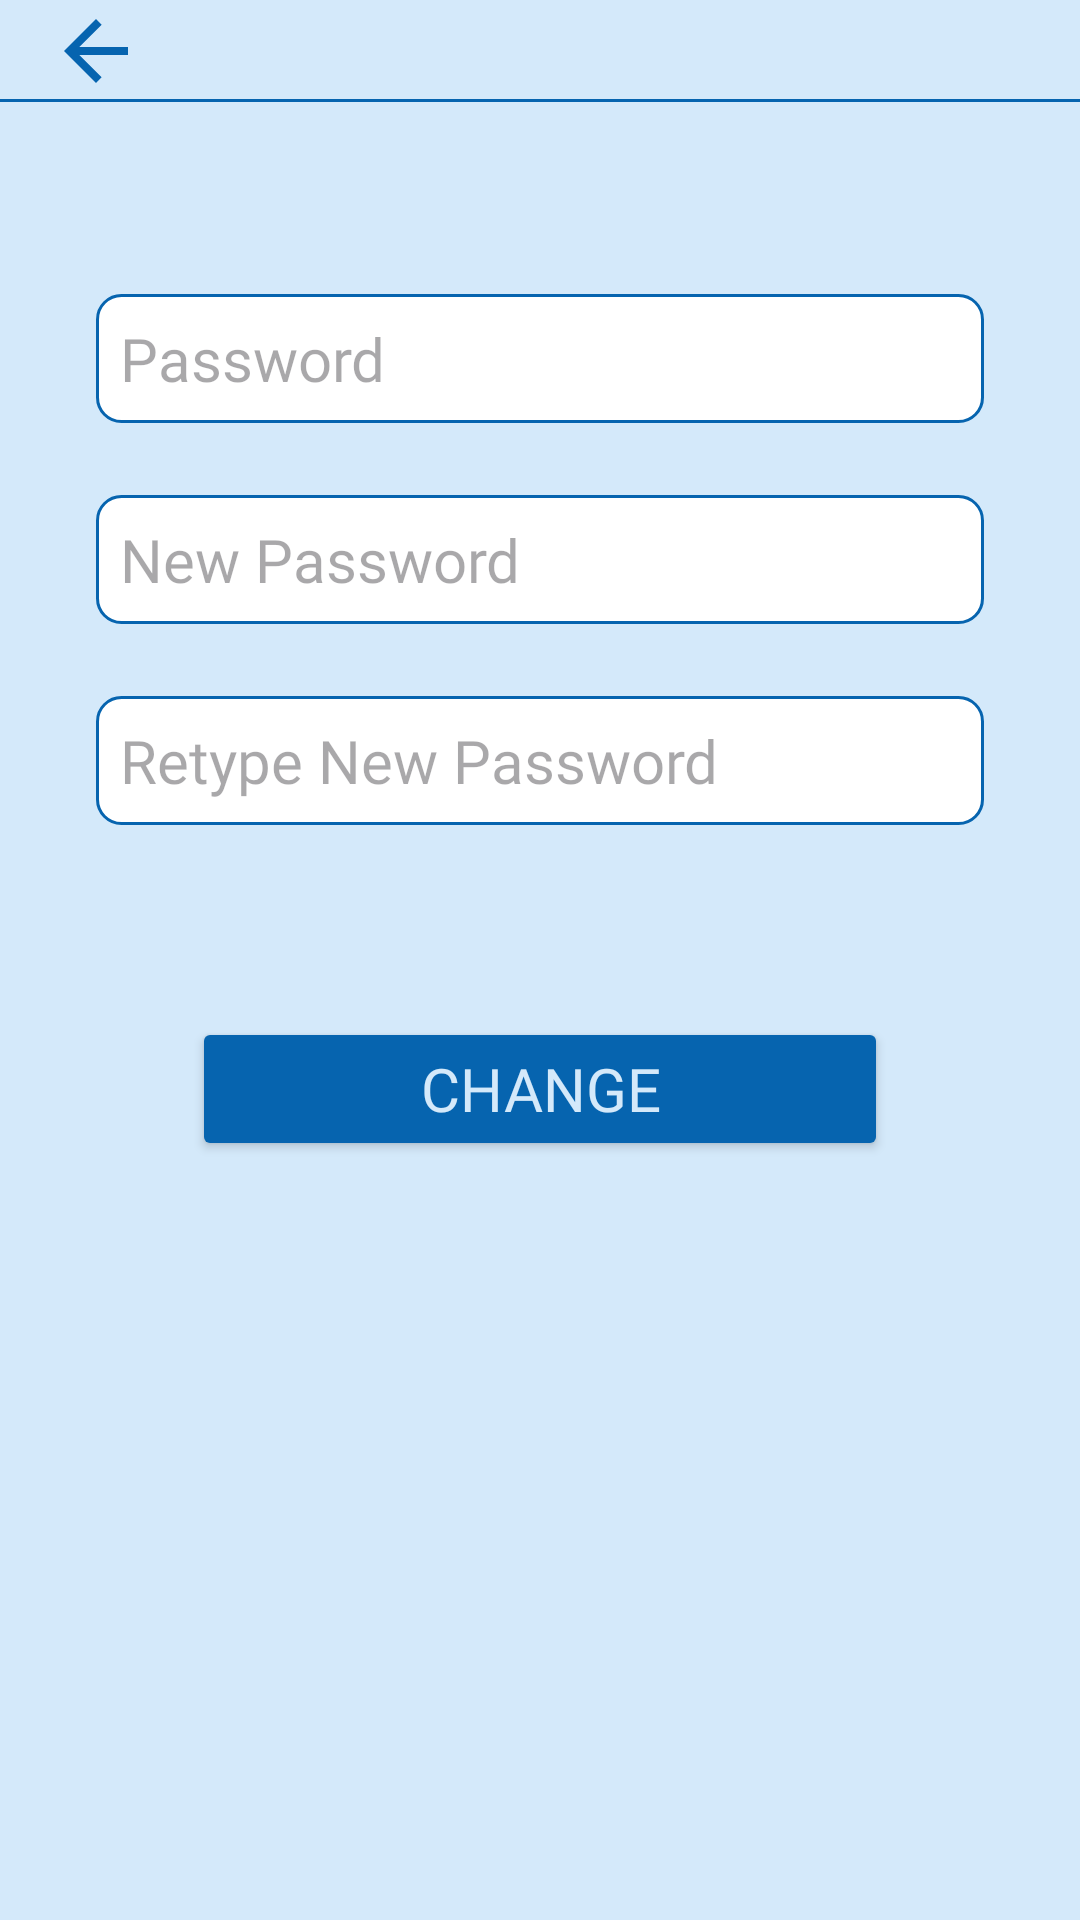

Where icons sit on this 1080w x 1920h app screen, as [left=x1, top=y1, right=x2, bottom=y2]:
arrow back: [left=64, top=19, right=128, bottom=83]
